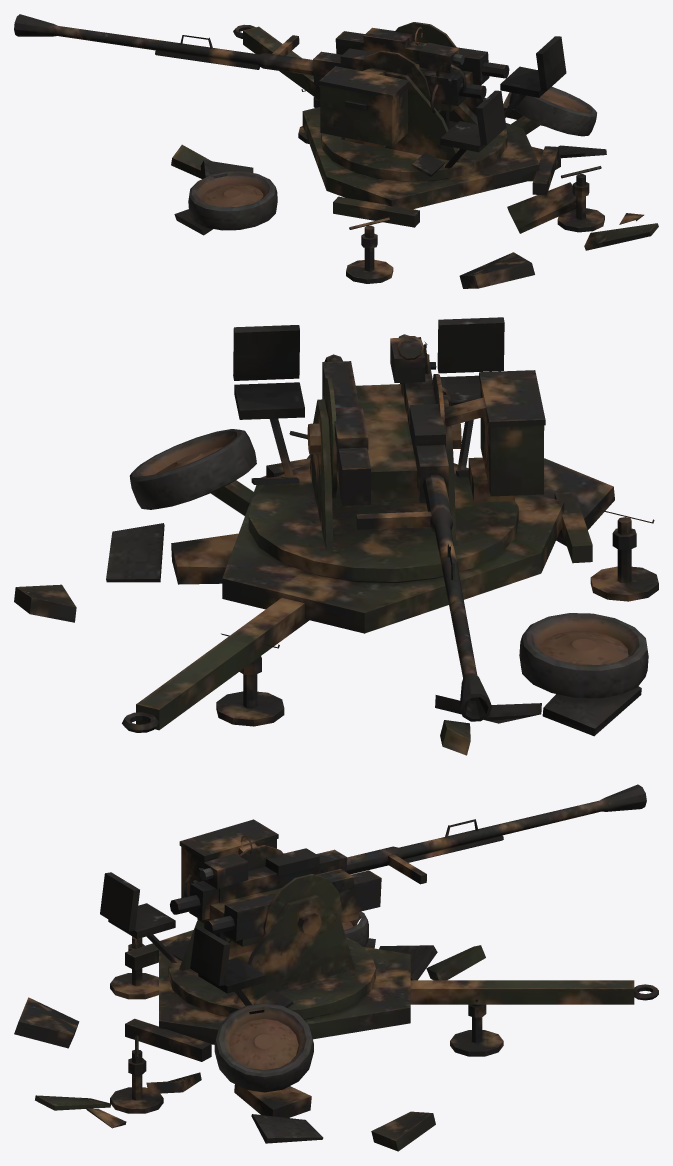
File: aaa_gun_destroyed.glb
3 renders of one model, top to bottom at view 1: azimuth 30°, elevation 25°; view 2: azimuth 150°, elevation 25°; view 3: azimuth 270°, elevation 25°, orthographic. The views are drawn at different scales.
Parts seen in each view (by area): view 1: carriage, turret, barrels, debris; view 2: carriage, turret, barrels, debris; view 3: carriage, turret, barrels, debris.
Part boxes in pixels (bbox=[...]): carriage: bbox=[188, 24, 604, 283]; turret: bbox=[319, 27, 566, 180]; barrels: bbox=[14, 14, 509, 111]; debris: bbox=[171, 92, 658, 288]; carriage: bbox=[122, 429, 658, 732]; turret: bbox=[233, 317, 545, 581]; barrels: bbox=[322, 354, 492, 721]; debris: bbox=[14, 458, 641, 755]; carriage: bbox=[110, 911, 658, 1113]; turret: bbox=[100, 819, 375, 1019]; barrels: bbox=[170, 784, 646, 946]; debris: bbox=[14, 938, 485, 1151].
Size of the model in its own units: 3.55 by 1.55 by 4.1.
Materials: 1 (1 with a texture image).
